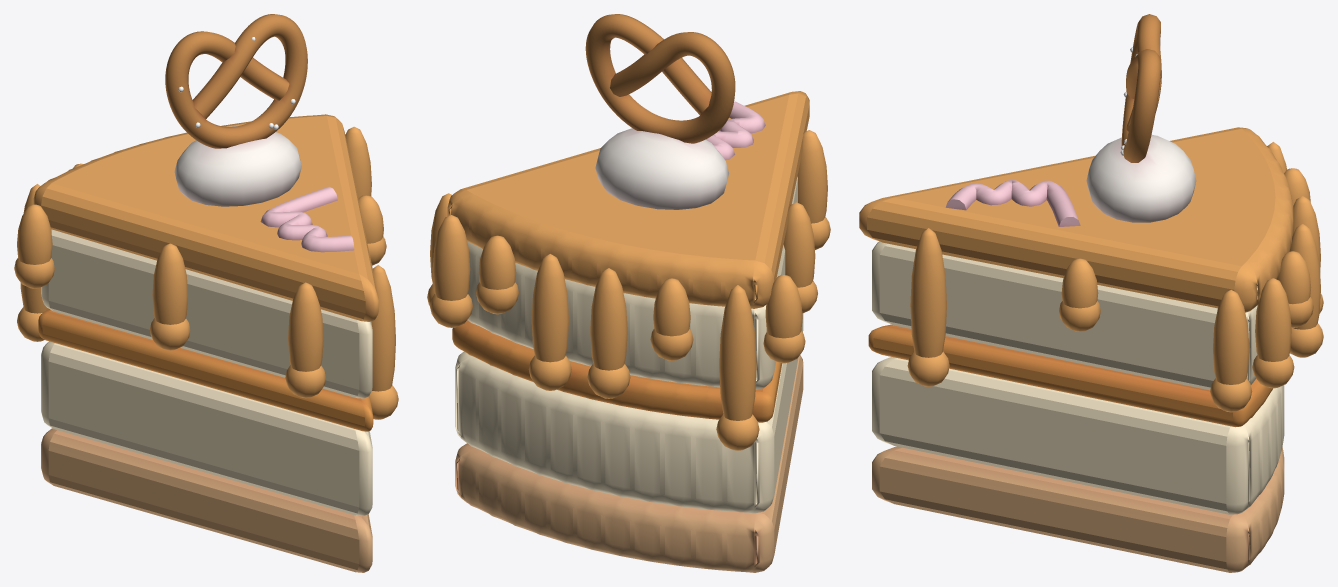
File: pretzelcake.glb
3 views of the same model, side by side, from view 1: azimuth 30°, elevation 25°; view 2: azimuth 150°, elevation 25°; view 3: azimuth 270°, elevation 25° (orthographic). The views are drawn at different scales.
Visible parts, largest first — view 1: cfff0cf, ceda95e, biscuit, pretzel_dough, caramel, cream, drizzle; view 2: ceda95e, cfff0cf, biscuit, pretzel_dough, cream, caramel, drizzle; view 3: cfff0cf, ceda95e, biscuit, caramel, cream, pretzel_dough, drizzle.
Boxes of the visible parts, box(x1,y1,x2,y2) form: cfff0cf: box(41, 229, 372, 516); ceda95e: box(14, 114, 398, 419); biscuit: box(41, 428, 372, 572); pretzel_dough: box(165, 14, 307, 148); caramel: box(38, 309, 373, 431); cream: box(174, 126, 301, 206); drizzle: box(260, 186, 354, 252); ceda95e: box(427, 91, 830, 450); cfff0cf: box(455, 176, 803, 513); biscuit: box(455, 355, 803, 572); pretzel_dough: box(585, 14, 735, 143); cream: box(595, 128, 728, 209); caramel: box(452, 320, 782, 422); drizzle: box(706, 101, 765, 160); cfff0cf: box(872, 241, 1284, 514); ceda95e: box(859, 127, 1323, 412); biscuit: box(872, 446, 1284, 572); caramel: box(868, 324, 1272, 427); cream: box(1086, 135, 1196, 222); pretzel_dough: box(1121, 14, 1161, 162); drizzle: box(945, 179, 1080, 226).
Size of the model in its own units: 0.4583 by 0.5655 by 0.5072.
